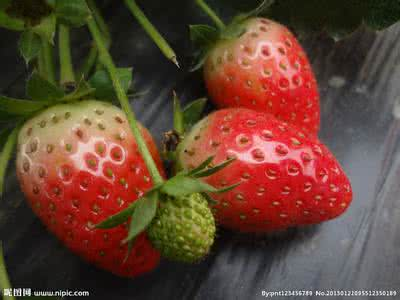strawberry: (8, 76, 167, 274), (156, 103, 360, 232), (191, 12, 339, 134), (131, 170, 218, 263)
